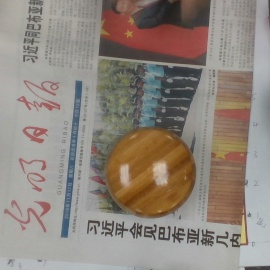chess: (105, 127, 198, 219)
